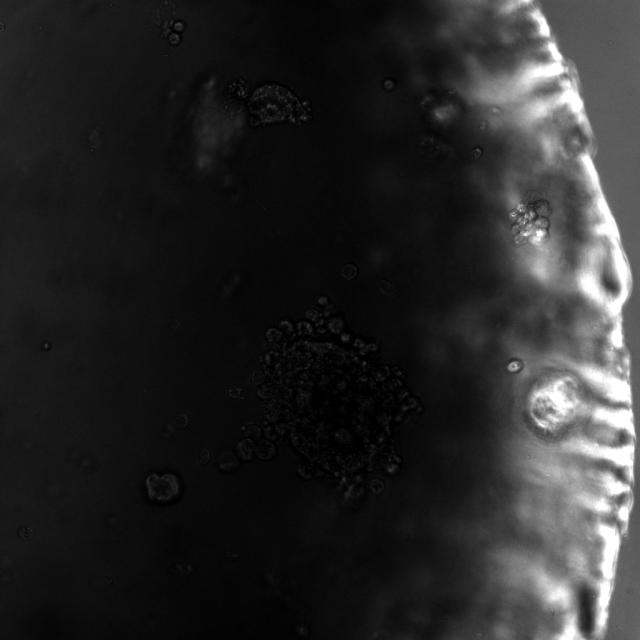organoid: (218, 296, 422, 501), (224, 77, 311, 123), (509, 193, 551, 244), (146, 473, 179, 502), (162, 19, 186, 45), (172, 412, 189, 428), (197, 448, 210, 465), (228, 385, 243, 399)
